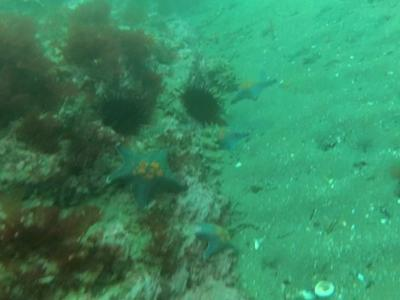holothurian: (150, 71, 180, 147), (197, 119, 225, 166)
scallop: (313, 279, 336, 296)
urchin: (99, 94, 144, 140), (182, 86, 230, 127)
